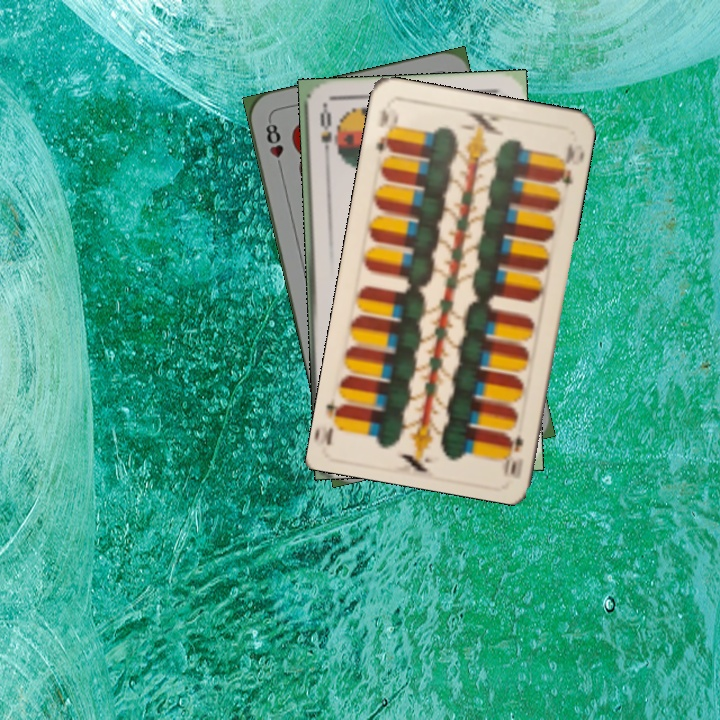E10: (371, 101, 401, 155), (499, 432, 526, 477)
H8: (261, 116, 286, 175)
SO: (315, 103, 334, 162)
